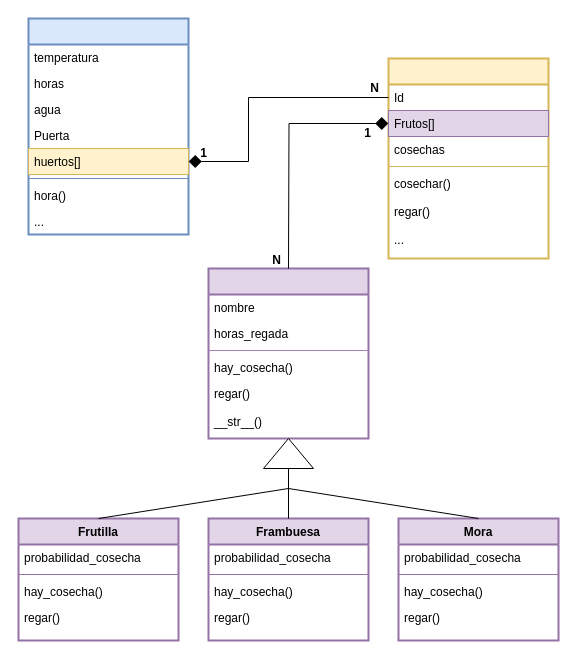
Image size: 576x658. Some labels were removed from this diagram. The shapes that lost their labels are listed below. From the top down, each one's box as (x1, y1, x2, y2) in pixels, then its label:
(27, 17, 189, 235): Invernadero
(387, 57, 549, 259): Huerto
(207, 267, 369, 439): FrutoRojo
